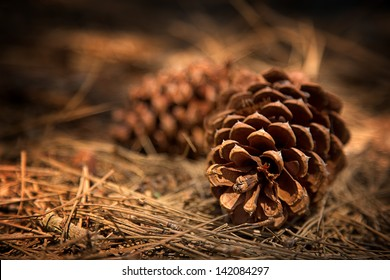Pc: (206, 68, 350, 227)
